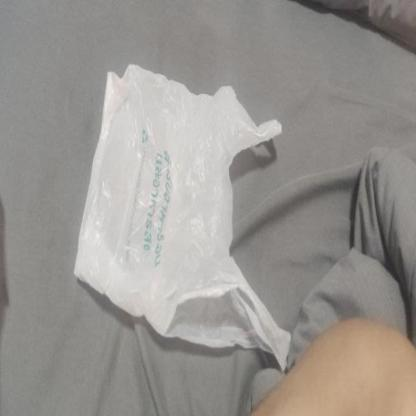Plastic Bag: (74, 62, 296, 390)
